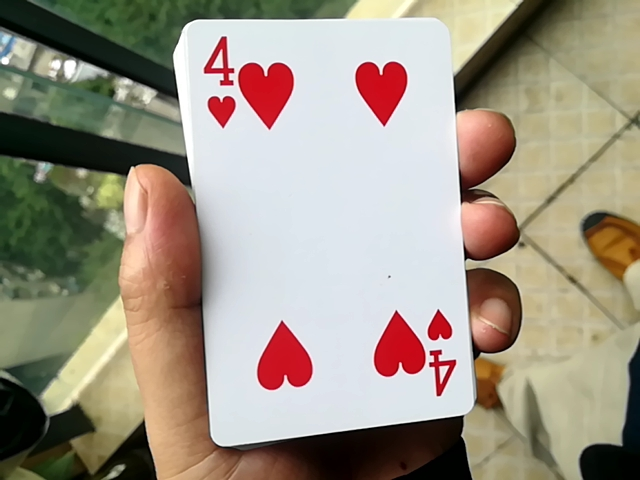hx 4: (153, 18, 471, 440)
